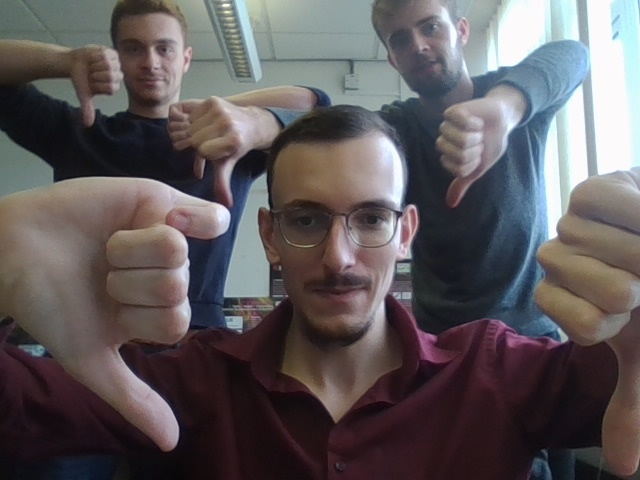thumbdown: (43, 179, 197, 450), (536, 166, 640, 480), (438, 98, 508, 206), (192, 95, 259, 206), (68, 44, 124, 123), (168, 98, 215, 180)
